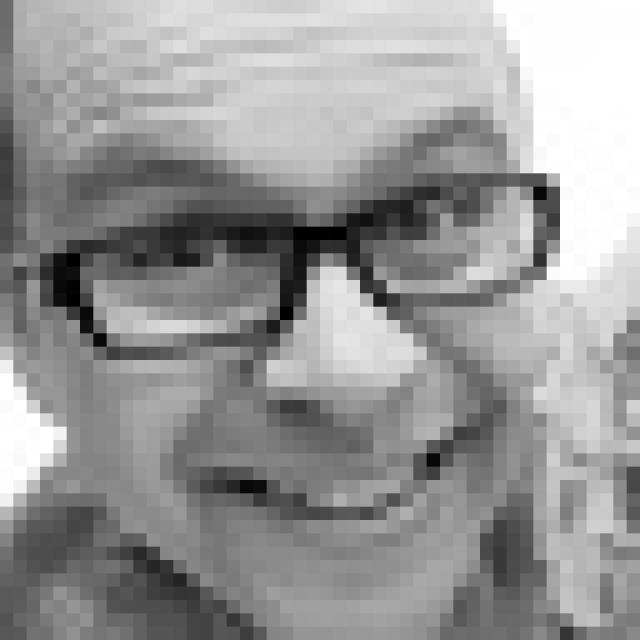happy: (79, 111, 510, 574)
